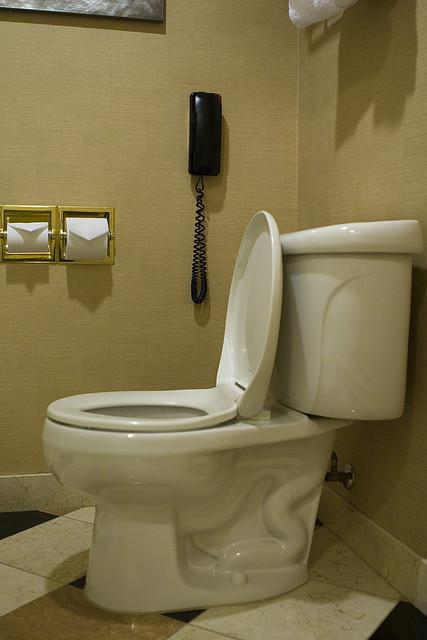Sanitario: (38, 206, 413, 620)
